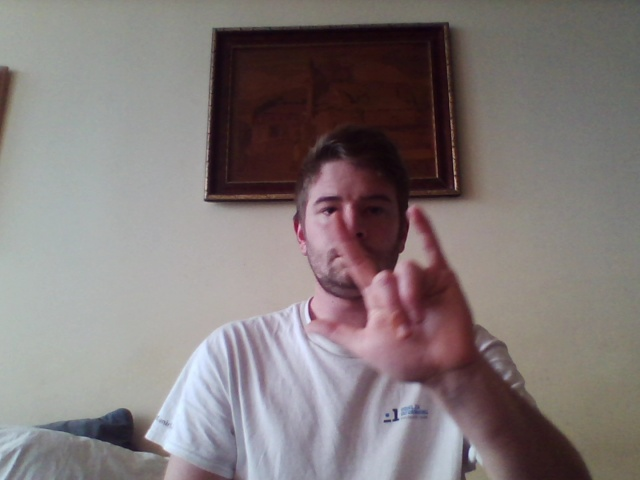volimte: (300, 208, 475, 371)
